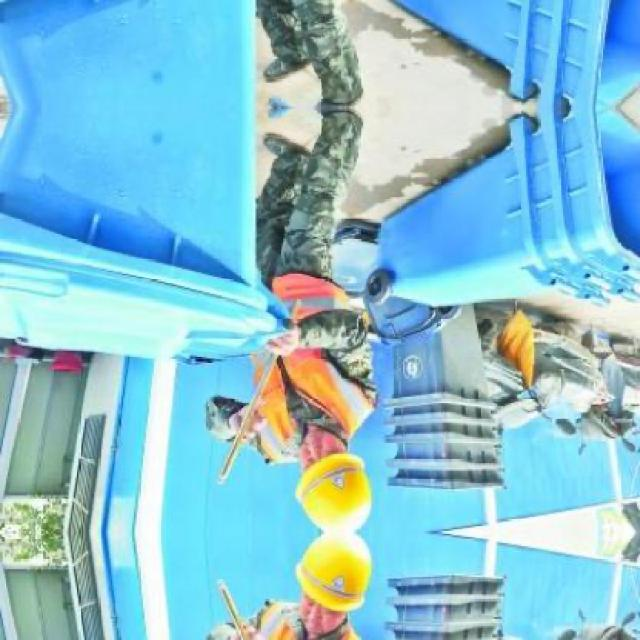con casco: (287, 425, 379, 528)
